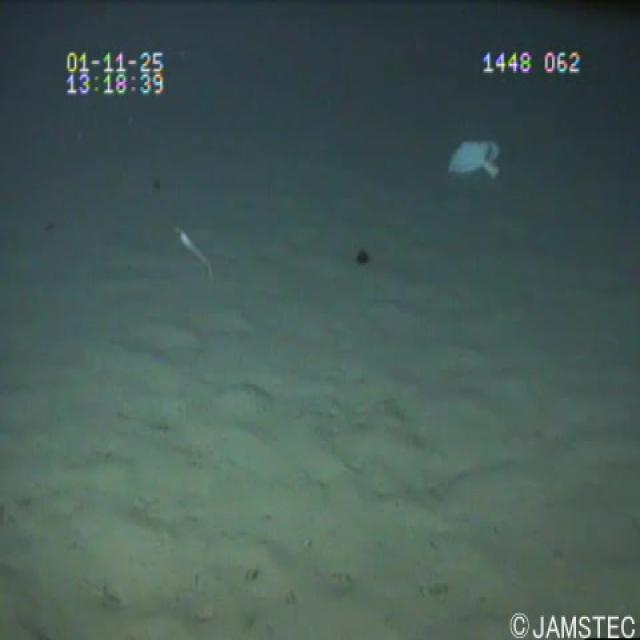plastic: (434, 132, 506, 196)
